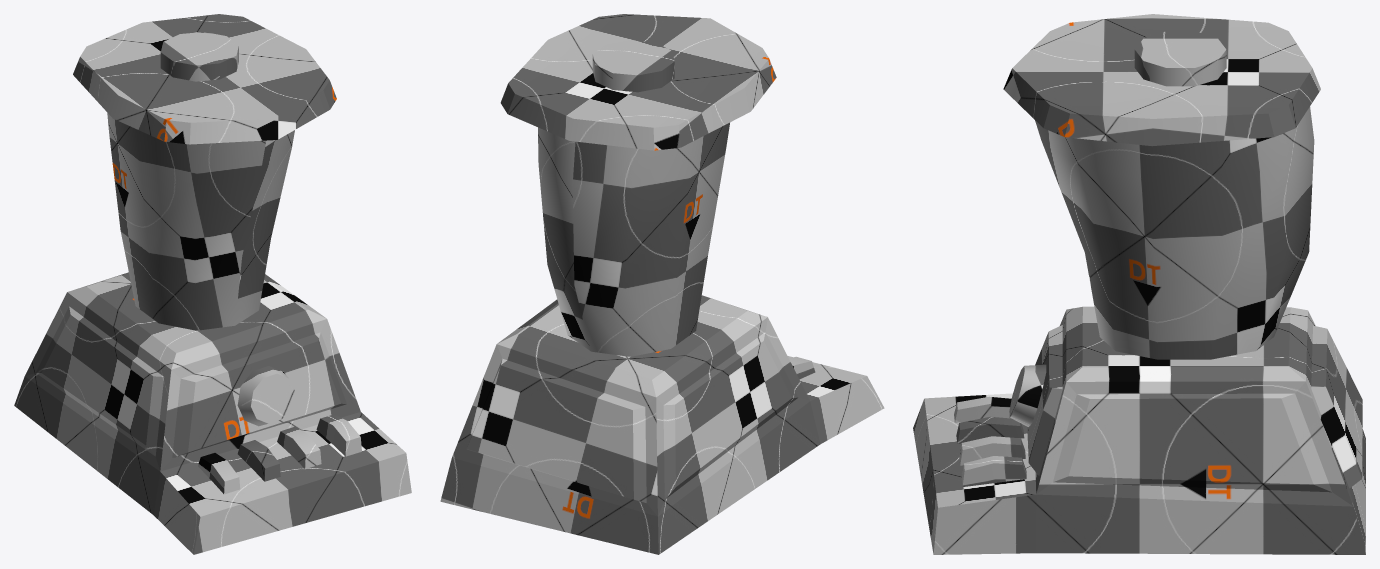
Rendered from blender.FBX.
The picture shows the model from 3 angles, left to right: view 1: azimuth 30°, elevation 25°; view 2: azimuth 150°, elevation 25°; view 3: azimuth 270°, elevation 25°; orthographic projection. The views are drawn at different scales.
Parts seen in each view (by area): view 1: Blender; view 2: Blender; view 3: Blender.
Part boxes in pixels (x1=…): Blender: x1=14, y1=14, x2=411, y2=554; Blender: x1=440, y1=14, x2=884, y2=554; Blender: x1=913, y1=14, x2=1365, y2=554.
Bounding box in the file's own units: 19.94 × 32.77 × 30.08.
1 material, 1 textured.
